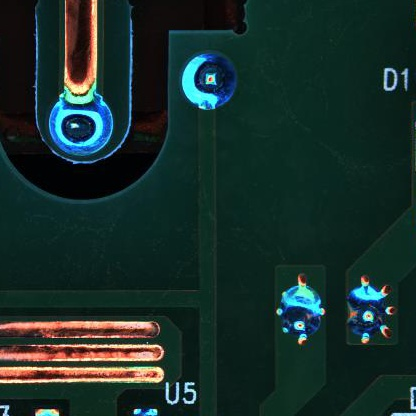spot: (47, 94, 115, 159), (273, 274, 328, 349), (344, 275, 400, 346), (181, 53, 240, 111)
